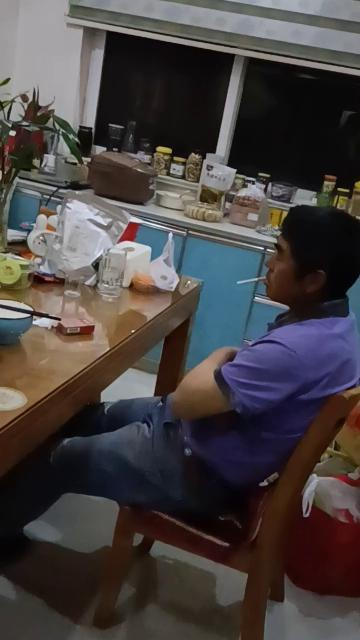Smoking: (237, 277, 267, 285)
